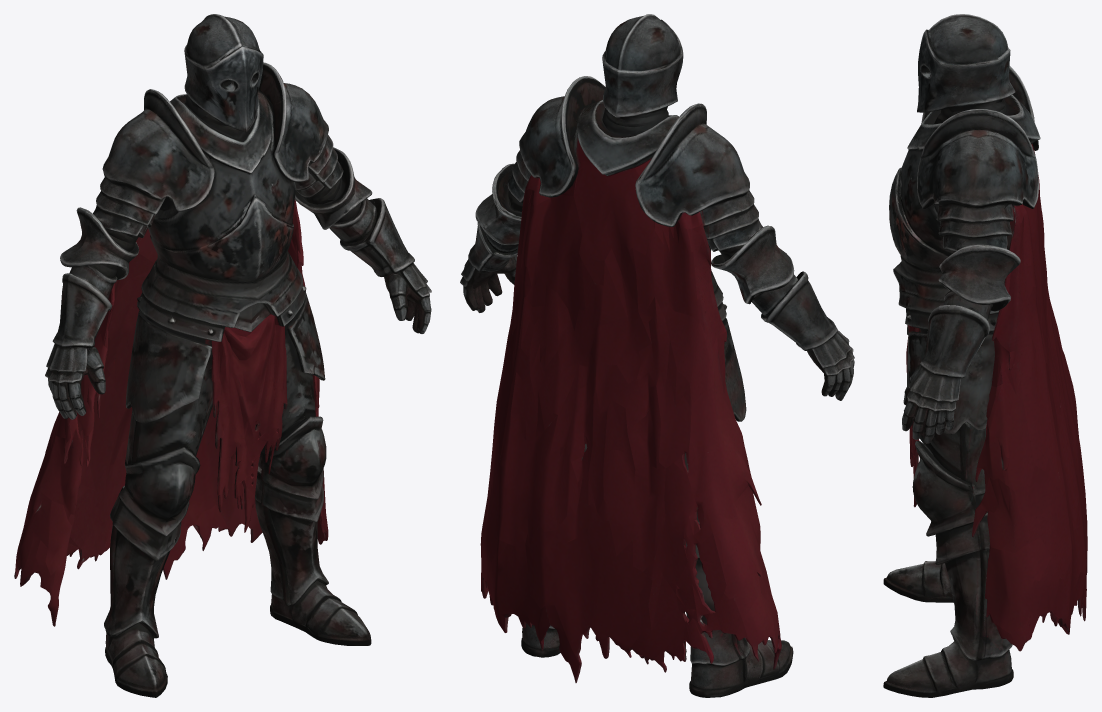
File: enemy_knight.glb
3 renders of one model, left to right at view 1: azimuth 30°, elevation 25°; view 2: azimuth 150°, elevation 25°; view 3: azimuth 270°, elevation 25°, orthographic. The views are drawn at different scales.
Parts seen in each view (by area): view 1: Mesh_0; view 2: Mesh_0; view 3: Mesh_0.
Boxes of the visible parts, left/top/right/bottom form: Mesh_0: left=14, top=14, right=431, bottom=697; Mesh_0: left=460, top=14, right=854, bottom=697; Mesh_0: left=883, top=14, right=1087, bottom=697.
Bounding box in the file's own units: 1.2 × 1.9 × 0.5627.
1 material, 1 textured.
